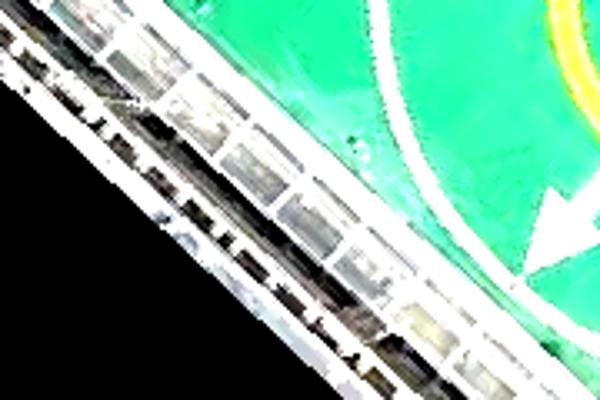Apron: (524, 5, 600, 120)
